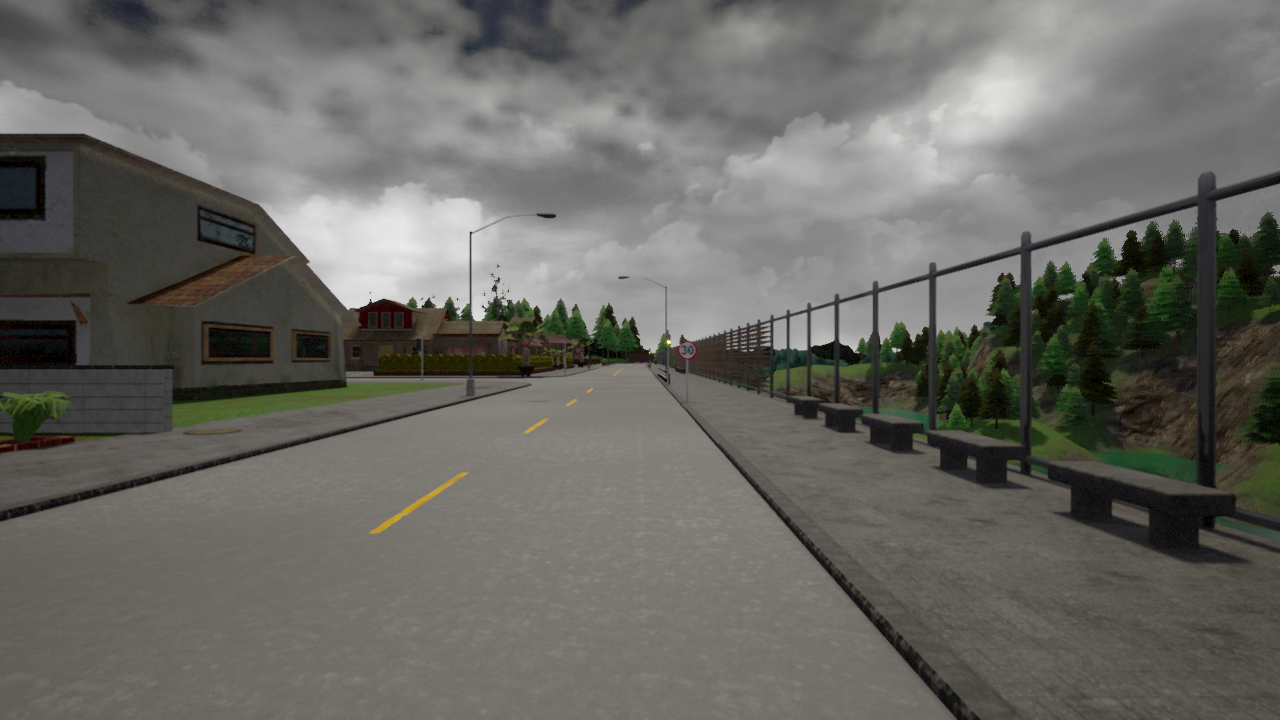yellow: (665, 334, 672, 351)
